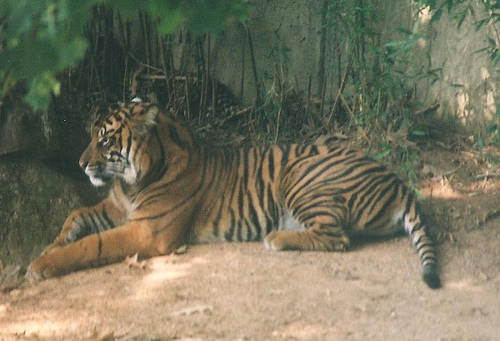Tigre: (50, 98, 446, 289)
